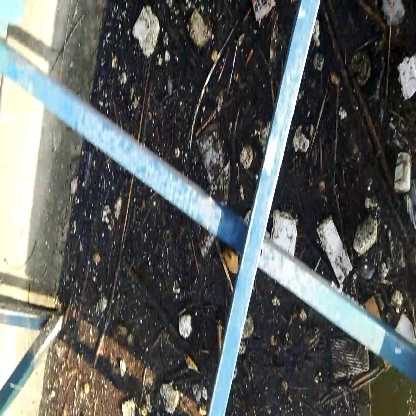branch: (123, 253, 211, 378)
